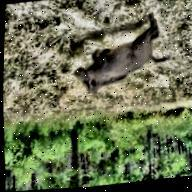boar: (66, 6, 172, 104)
